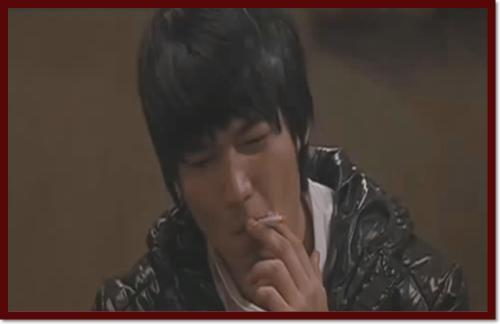smoke: (255, 214, 284, 227)
